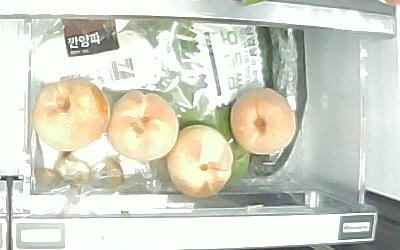peach: (34, 78, 111, 152), (108, 88, 179, 161), (166, 124, 232, 198), (229, 87, 296, 154)
